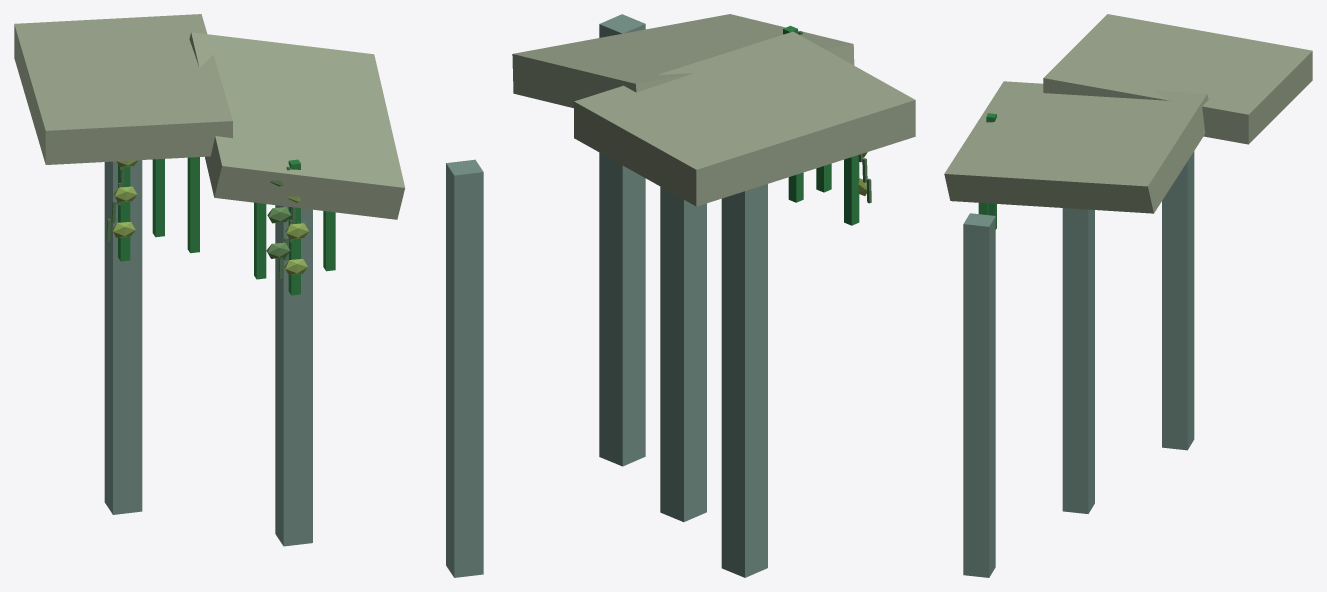
Rendered from unit_02.glb.
3 views of the same model, side by side, from view 1: azimuth 30°, elevation 25°; view 2: azimuth 150°, elevation 25°; view 3: azimuth 270°, elevation 25° (orthographic). The views are drawn at different scales.
Visible parts, largest first — view 1: unit_02; view 2: unit_02; view 3: unit_02.
Boxes of the visible parts, x1,y1,x2,y2 form: unit_02: (14, 14, 483, 577); unit_02: (512, 14, 915, 577); unit_02: (944, 14, 1312, 577).
Size of the model in its own units: 7.53 by 9.49 by 7.61.
